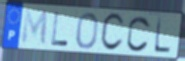C: (99, 12, 126, 53), (125, 15, 152, 54)
L: (153, 17, 173, 56), (50, 11, 70, 47)
M: (20, 9, 49, 48)
O: (74, 12, 99, 50)
